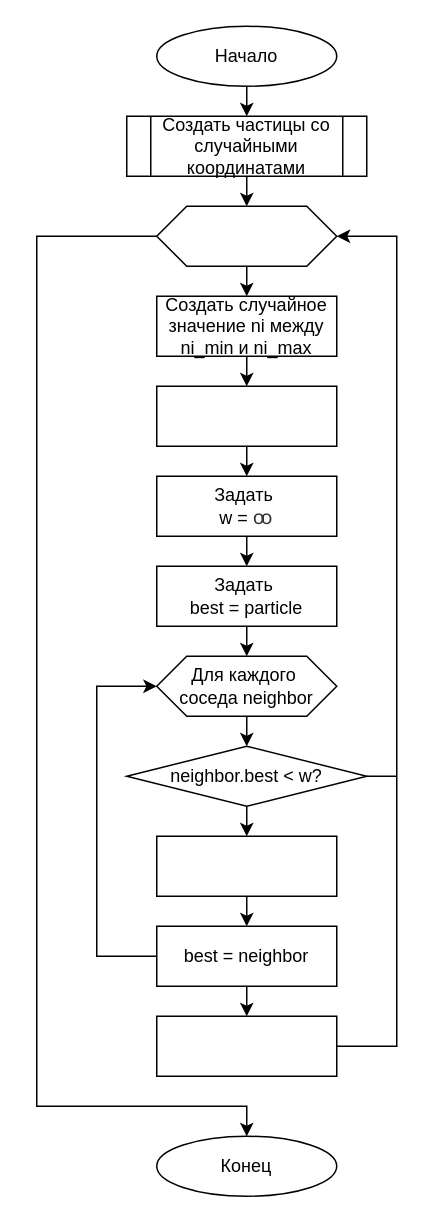
The diagram is 435 pixels wide and 1223 high, and some of its shapes have lost their labels. Each missing label, with the centre of its shape:
"w = neighbor.best" goes at point 246,865.
"Взять ni частиц neighbors" goes at point 246,415.
"Для каждой частицы particle" goes at point 246,235.
"Задать particle новую позицию" goes at point 246,1045.
